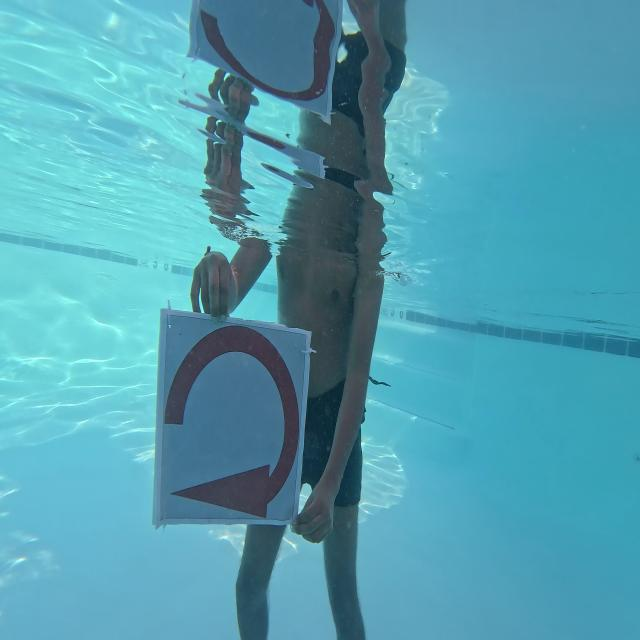red_side: (139, 284, 311, 552)
